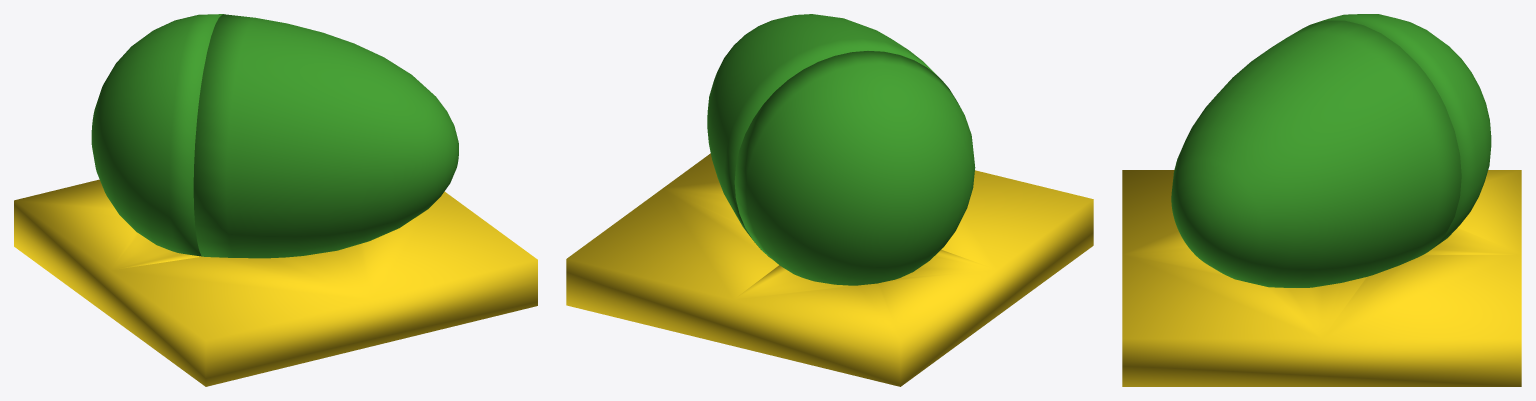
Rendered from egg_2.glb.
3 renders of one model, left to right at view 1: azimuth 30°, elevation 25°; view 2: azimuth 150°, elevation 25°; view 3: azimuth 270°, elevation 25°, orthographic. The views are drawn at different scales.
Visible parts, largest first — view 1: figura, basetta; view 2: basetta, figura; view 3: figura, basetta.
Part boxes in pixels (x1=…): figura: x1=91, y1=14, x2=458, y2=258; basetta: x1=14, y1=179, x2=537, y2=386; basetta: x1=566, y1=153, x2=1093, y2=386; figura: x1=707, y1=14, x2=975, y2=285; figura: x1=1171, y1=14, x2=1491, y2=287; basetta: x1=1122, y1=170, x2=1521, y2=386.
Bounding box in the file's own units: 0.015 × 0.0106 × 0.015.
